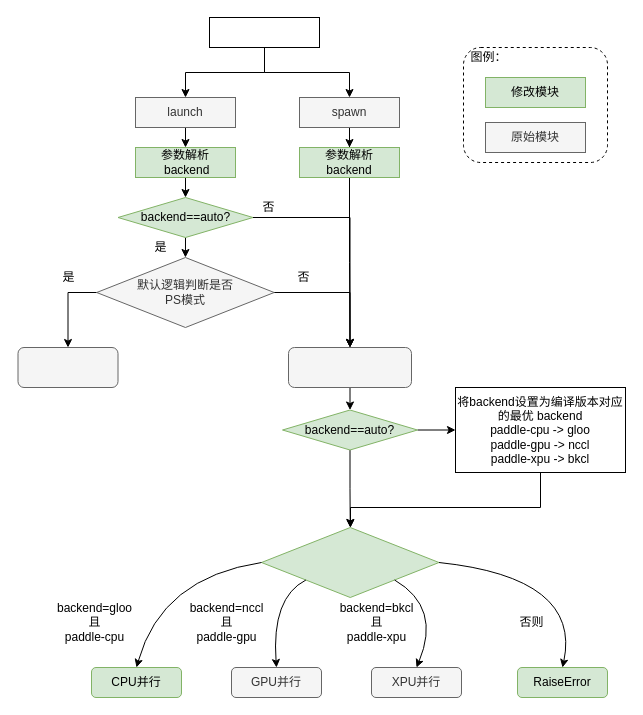
This 643x715 diagram has some shape labels left out. Each missing label, with the box of its shape:
Collective模式: (288, 346, 412, 388)
PS模式: (17, 346, 118, 388)
按照backend和paddle版本: (260, 526, 439, 598)
用户: (208, 16, 320, 48)
